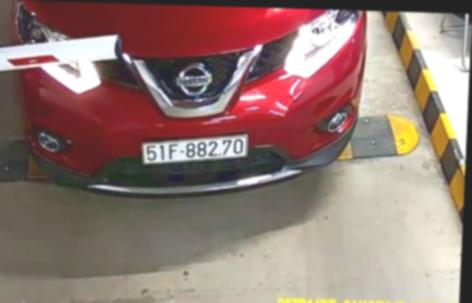License_Plate: (140, 133, 251, 165)
